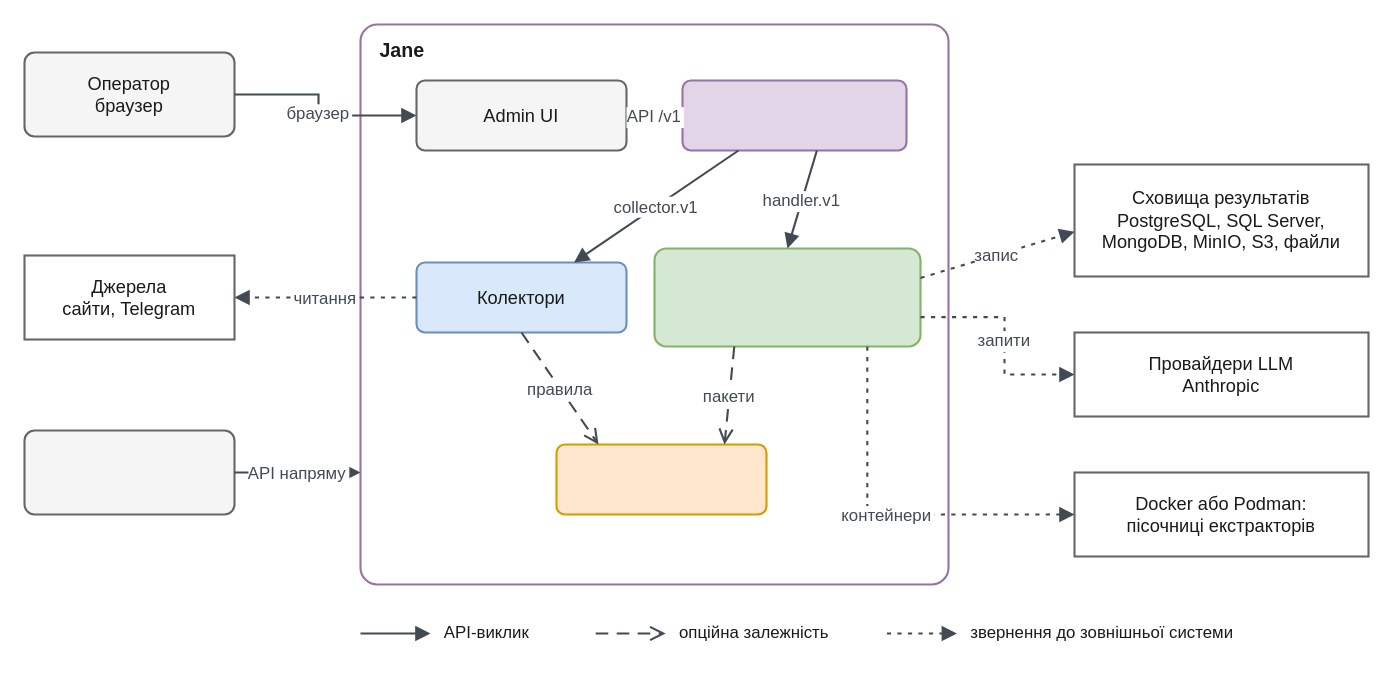
Some shapes in this 1394 by 673 pixel diagram are drawn without their labels. The centre of each missing label's shape, as x and y in pixels:
Orchestrator, Assistant: (x=794, y=115)
Registry: (x=661, y=479)
Обробники: Storage, Handler Runtime, LLM gateway: (x=787, y=297)
Сторонній застосунок: (x=129, y=472)
